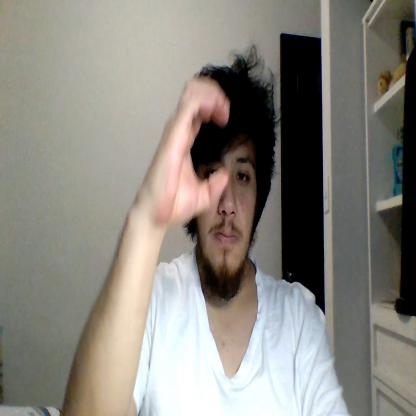C: (153, 77, 230, 222)
